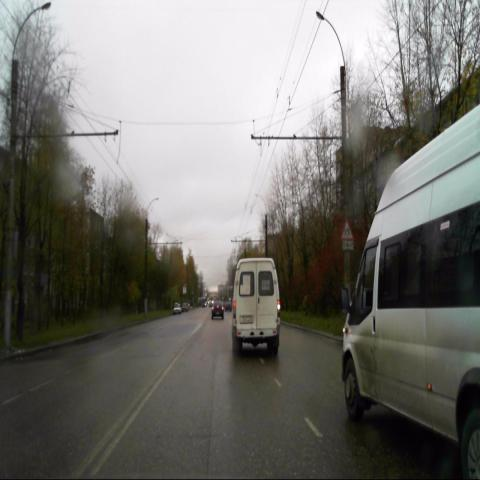1_23: (340, 219, 354, 241)
